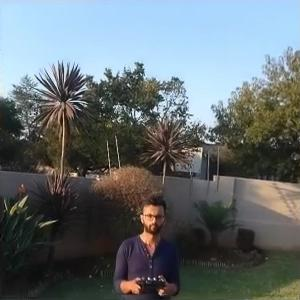follow: (109, 189, 183, 298)
